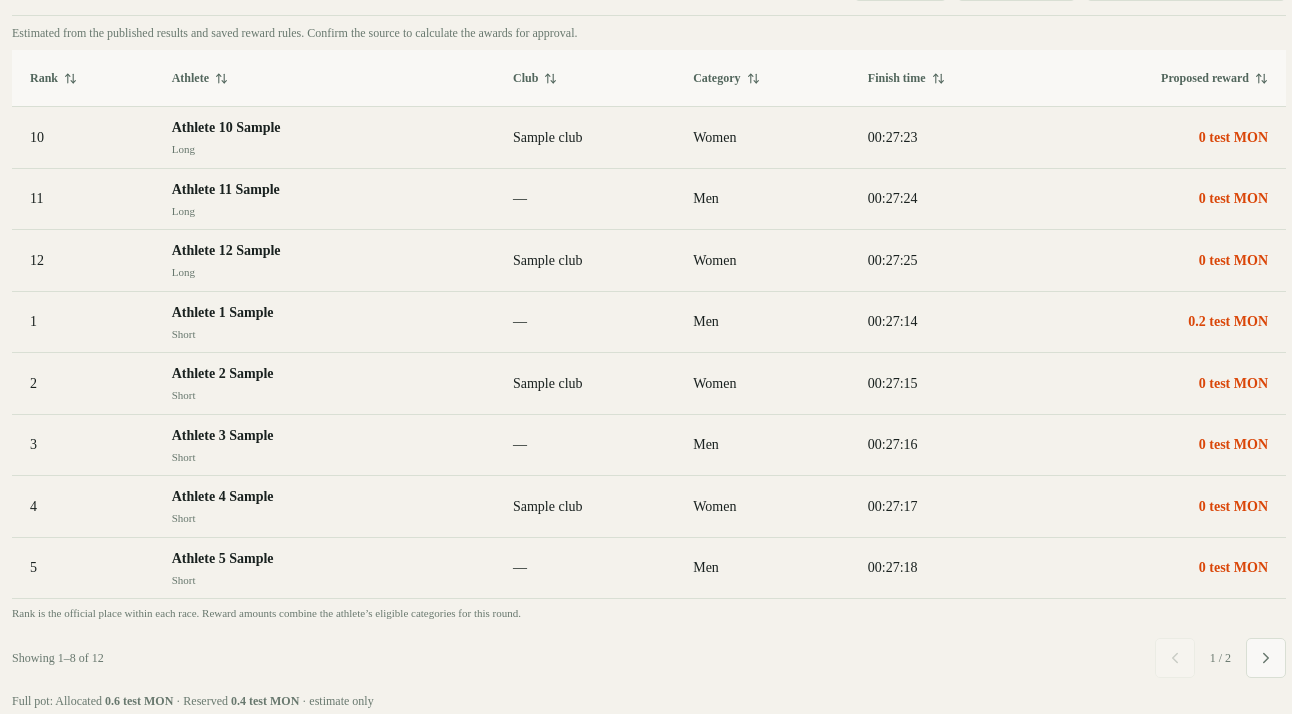
Test: shows recognizable rows, precise amounts and race/category/name filtering without duplicating totals
(page scrolled)
Expected: the column heading "Athlete 1 Sample" is shown, [172,304,274,320]
Expected: the text "00:27:14" is shown, [850,291,1042,352]
Click the button named "Next results" at (1266, 658), box [1246,638,1286,678]
(page scrolled)
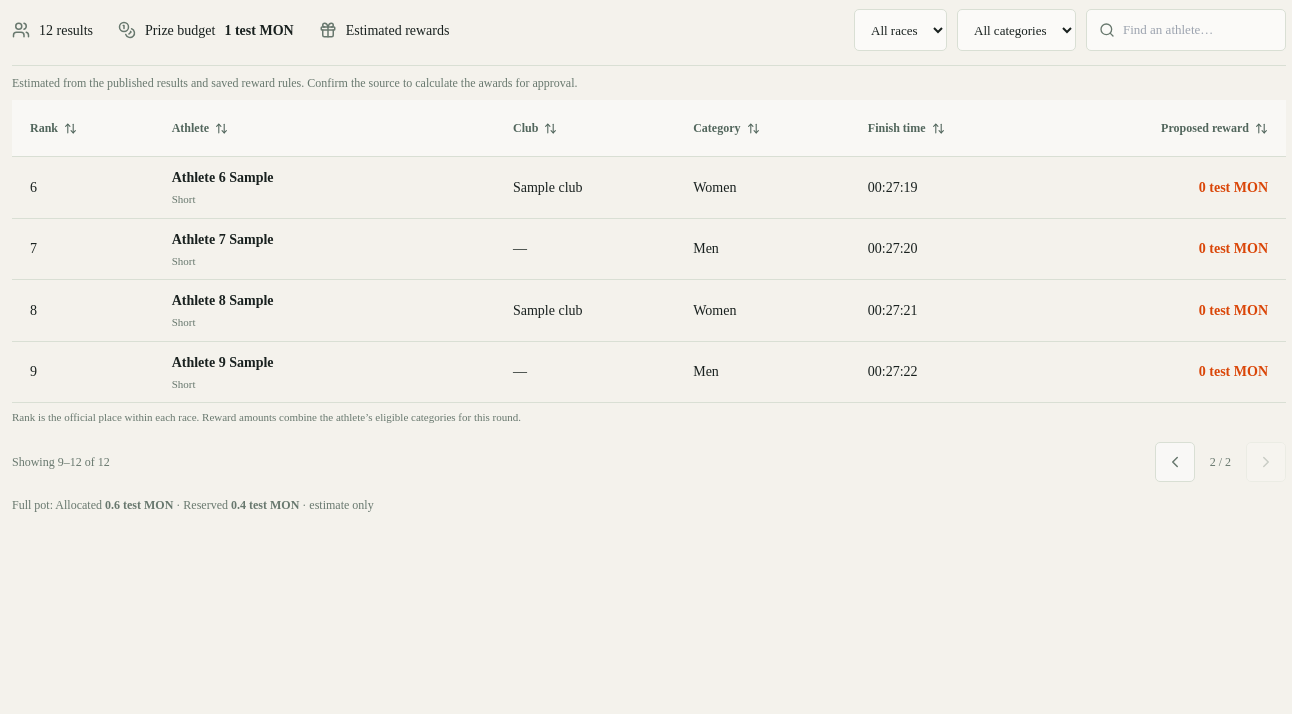
Expected: the column heading "Athlete 9 Sample" is shown, [172,354,274,370]
Select "Long" in the dropdown named "Race" at (900, 30), box [854,9,947,51]
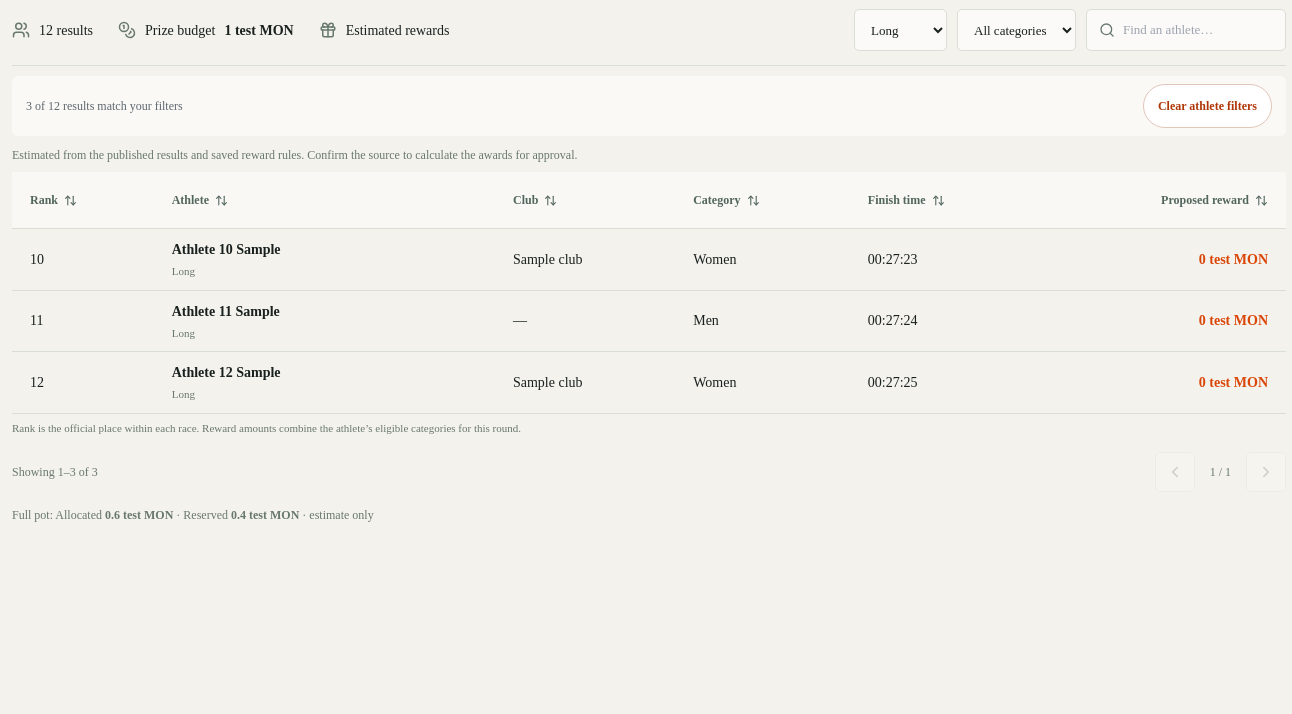
Expected: the text "Showing 1–3 of 3" is shown, [12,463,98,481]
Select "Women" in the dropdown named "Category" at (1016, 30), box [957,9,1076,51]
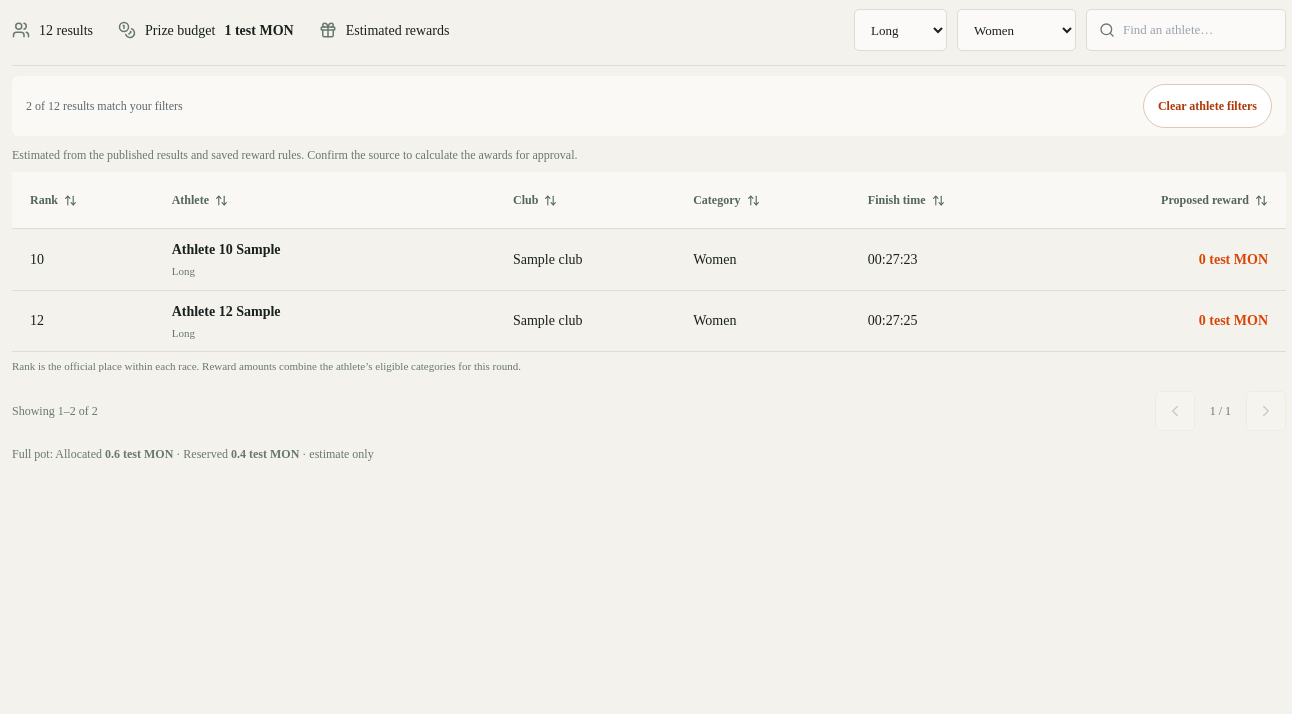
Expected: the text "Showing 1–2 of 2" is shown, [12,402,98,420]
Type "Athlete 12" into the field labelled "Find an athlete" at (1198, 30), box [1123,20,1273,40]
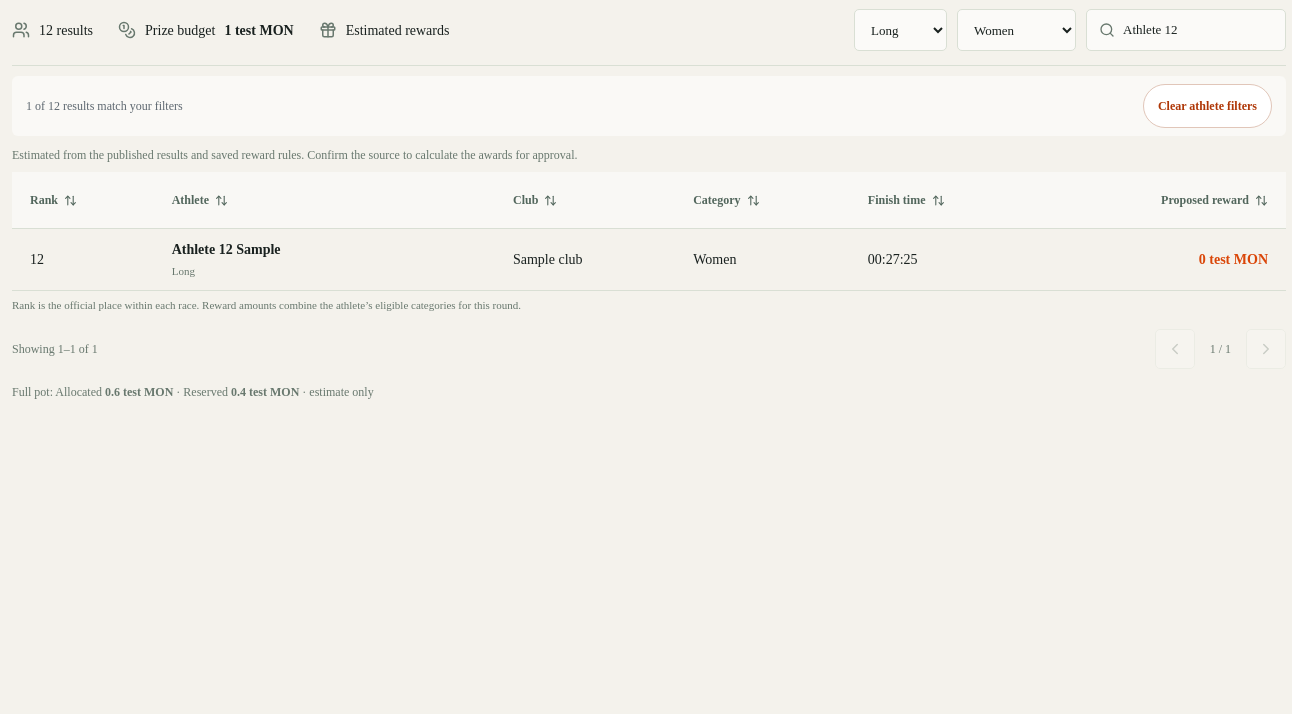
Expected: the text "0.6 test MON" is shown, [105,385,173,399]
Expected: the text "Showing 1–1 of 1" is shown, [12,340,98,358]
